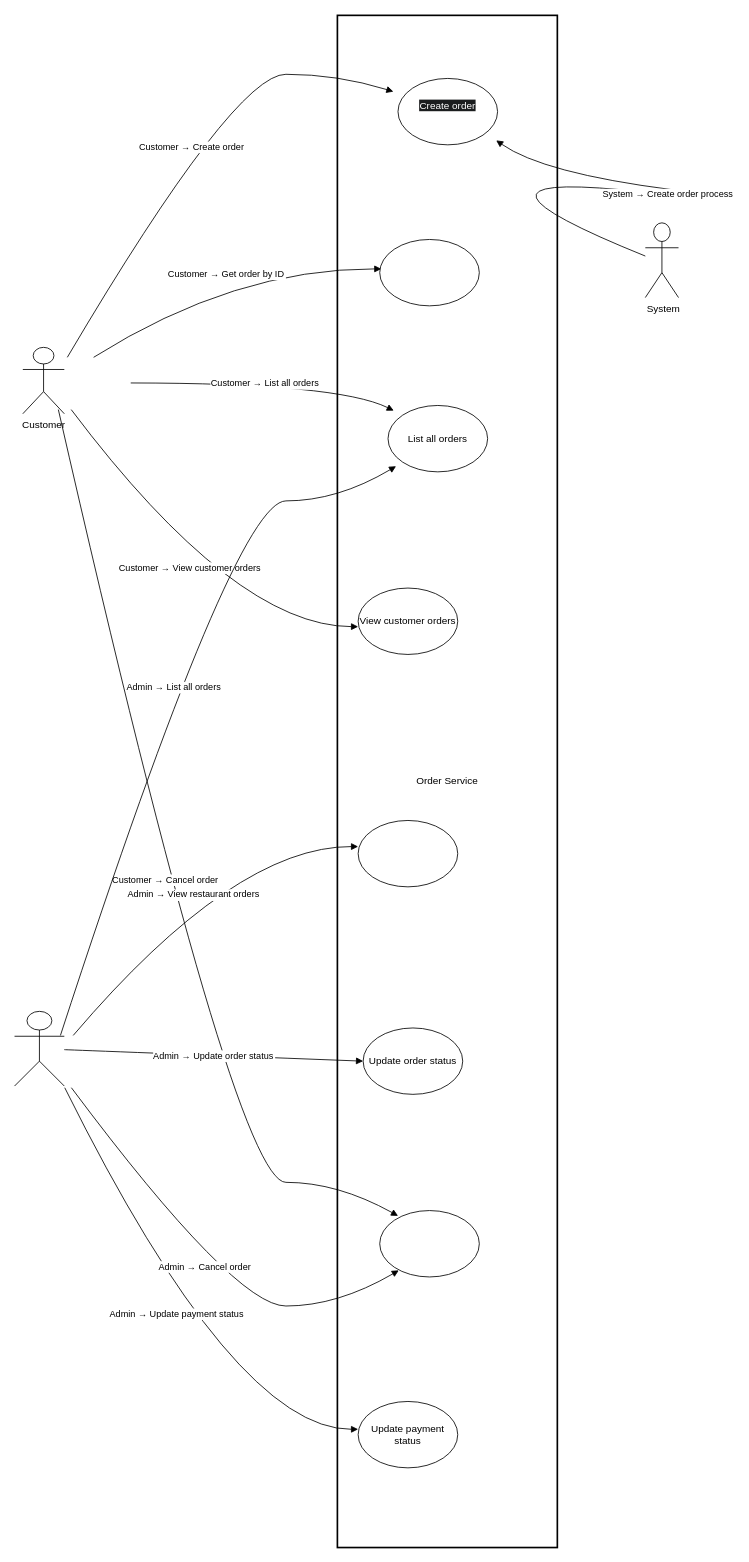
The diagram is 749 pixels wide and 1562 high, and some of its shapes have lost their labels. Each missing label, with the centre of its shape:
Admin: the point at 39,1048
Cancel order: the point at 429,1243
Get order by ID: the point at 429,272
View restaurant orders: the point at 407,853
